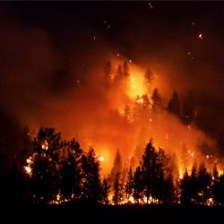fire: (20, 129, 224, 209), (102, 57, 155, 110)
